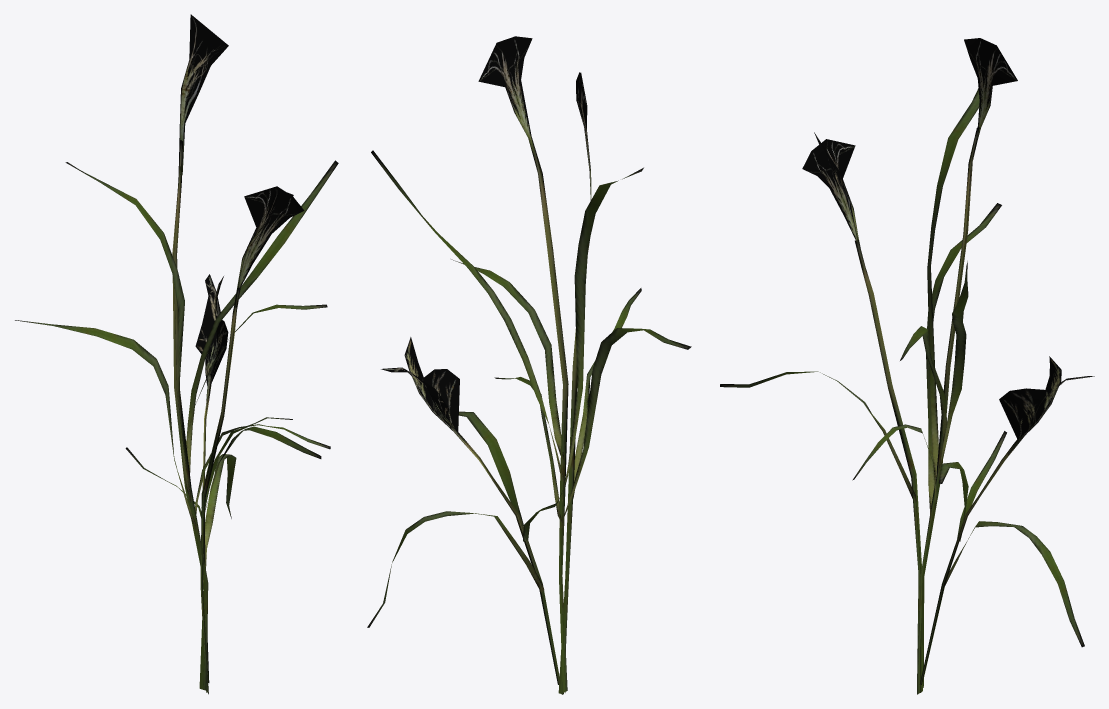
Rendered from SM_Grass_09.gltf.
3 views of the same model, side by side, from view 1: azimuth 30°, elevation 25°; view 2: azimuth 150°, elevation 25°; view 3: azimuth 270°, elevation 25° (orthographic). The views are drawn at different scales.
Parts seen in each view (by area): view 1: SM_Grass_09; view 2: SM_Grass_09; view 3: SM_Grass_09.
Part boxes in pixels (x1,y1,x2,y2): SM_Grass_09: [15, 14, 338, 694]; SM_Grass_09: [367, 36, 691, 694]; SM_Grass_09: [720, 38, 1094, 694].
Size of the model in its own units: 0.161 by 0.3225 by 0.1585.
Materials: 1 (1 with a texture image).
